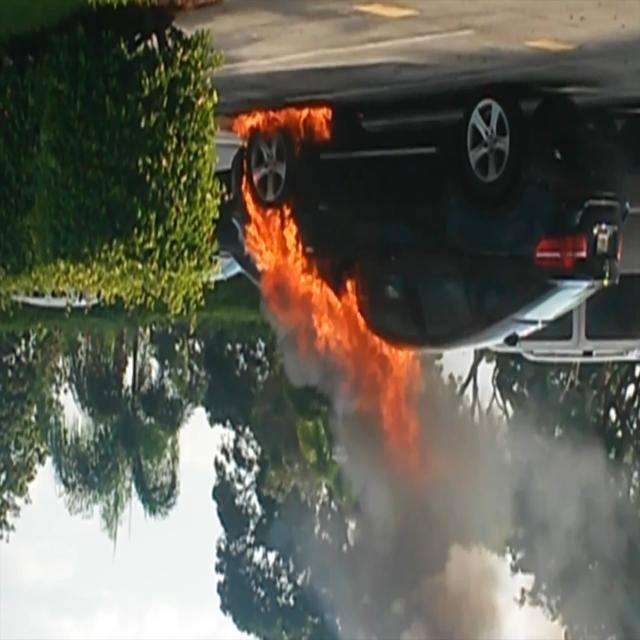fire: (232, 95, 426, 461)
